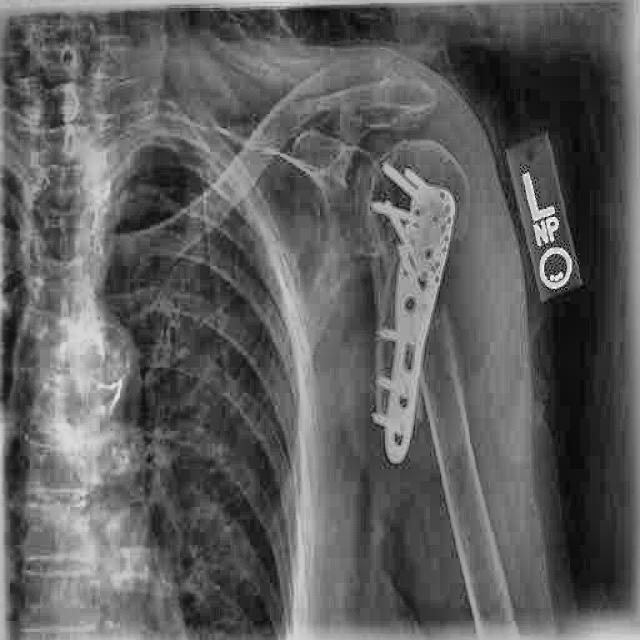shoulder fracture: (354, 300, 461, 456), (411, 286, 470, 424), (435, 198, 488, 262)
